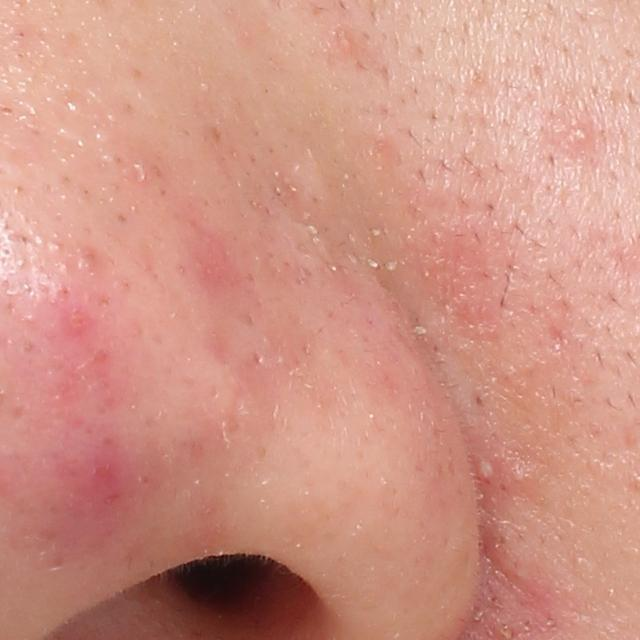papule: (56, 304, 94, 335)
pustule: (554, 119, 595, 148), (473, 458, 496, 482)
